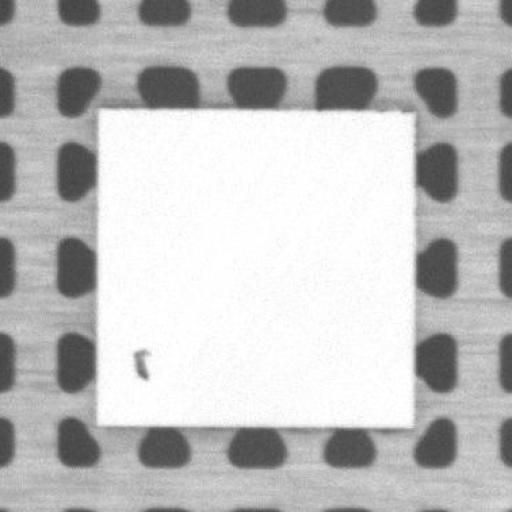DIE_INK: (130, 347, 150, 378)
